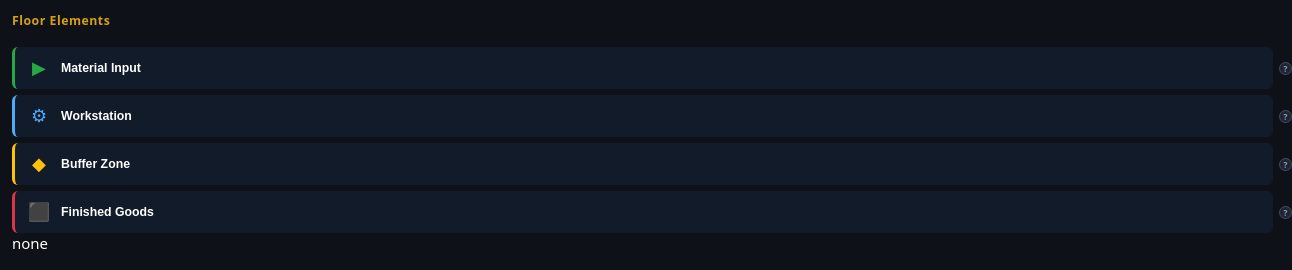
Test: ElementPalette (StationPalette) › creates a station with the current default properties
The width and height of the screenshot is (1292, 270).
What coordinates should you click on to do the following:
click the button with aria-label "Add Workstation"
I would click on:
 (96, 116)
Its box is left=12, top=95, right=1273, bottom=137.
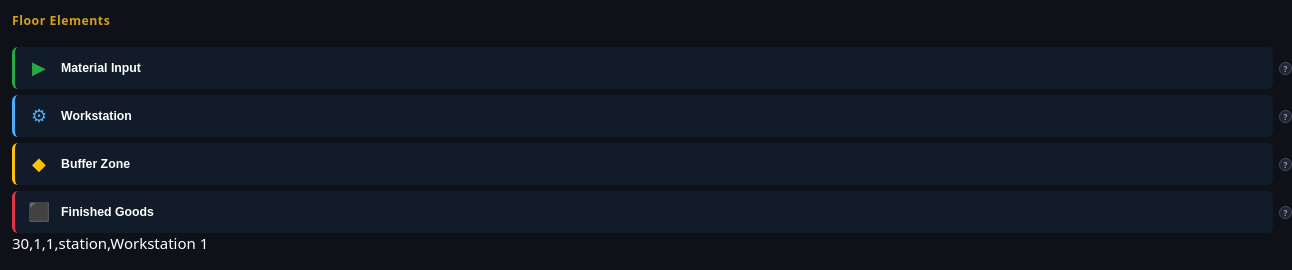
Now the text with test id "details" reads "30,1,1,station,Workstation 1", box left=12, top=233, right=208, bottom=253
